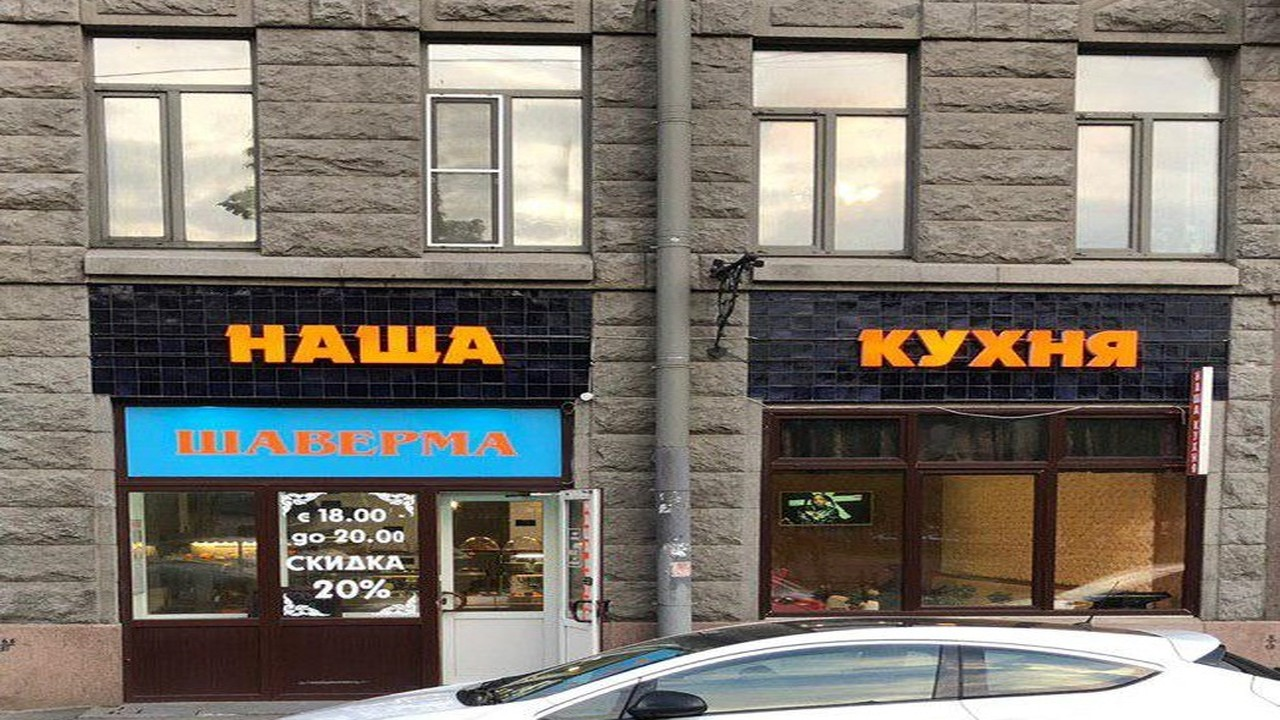door: (438, 491, 606, 677)
signboard: (861, 327, 1137, 370), (225, 325, 501, 366)
window: (763, 464, 1188, 613), (121, 487, 427, 618), (423, 34, 586, 247), (94, 37, 252, 249), (758, 44, 914, 256), (1078, 44, 1225, 259)
